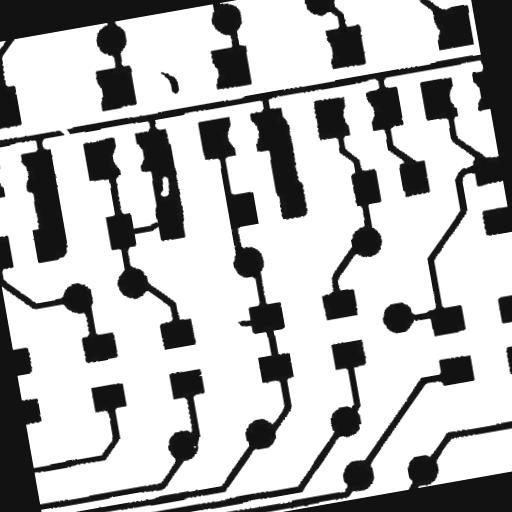copper: (151, 60, 188, 104)
open: (48, 114, 82, 151)
pin-hole: (148, 167, 179, 205)
short: (255, 316, 287, 368), (119, 212, 168, 243)
spur: (228, 309, 262, 337)
